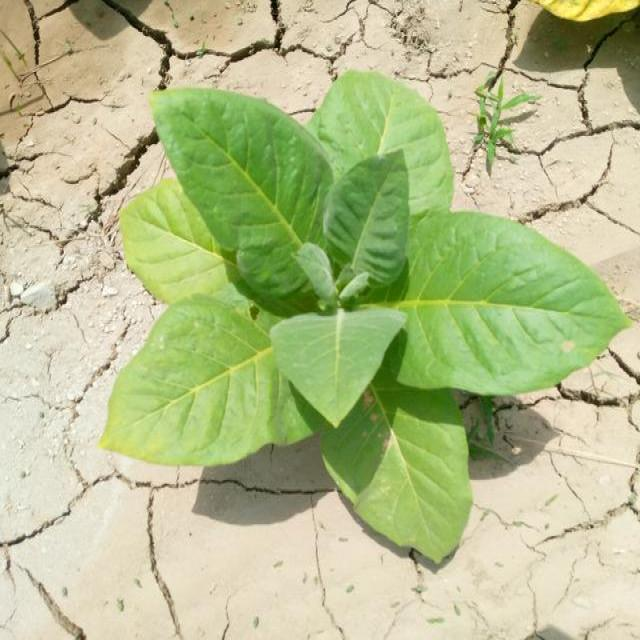crop: (93, 66, 628, 563)
